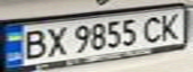5: (118, 16, 142, 47), (106, 18, 124, 48)
8: (87, 20, 109, 52)
9: (69, 21, 93, 54)
B: (15, 27, 51, 61)
C: (139, 12, 169, 43)
K: (157, 10, 187, 40)
X: (42, 24, 69, 57)
